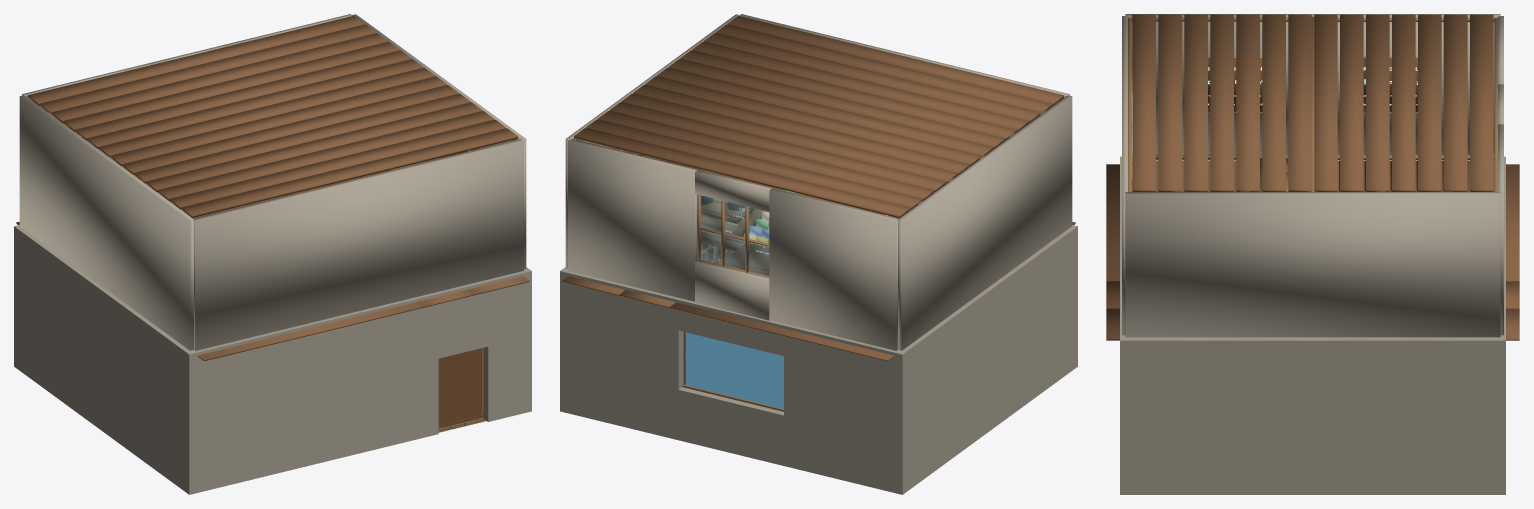
Rendered from PASCAL_QUARTO_PARIS_1650.glb.
3 renders of one model, left to right at view 1: azimuth 30°, elevation 25°; view 2: azimuth 150°, elevation 25°; view 3: azimuth 270°, elevation 25°, orthographic. The views are drawn at different scales.
Parts seen in each view (by area): view 1: Segundo andar - paredes de reboco e vãos, Segundo andar - forro de tábuas de madeira, Parede frontal - trecho esquerdo, Parede lateral esquerda - reboco, Parede frontal - trecho direito, Parede frontal - sobre a porta, Porta de carvalho escuro, Piso superior - subpiso contínuo sob as tábuas, Parede lateral direita - reboco; view 2: Segundo andar - paredes de reboco e vãos, Segundo andar - forro de tábuas de madeira, Parede lateral esquerda - reboco, Parede do fundo - trecho direito, Parede do fundo - trecho esquerdo, Parede do fundo - abaixo da janela, Fundo frio exterior da janela, Segundo andar - vidros azulados da janela, Parede do fundo - acima da janela, Piso superior - subpiso contínuo sob as tábuas, Parede lateral direita - reboco, Segundo andar - caixilho da janela (+2 smaller); view 3: Segundo andar - paredes de reboco e vãos, Parede lateral direita - reboco, Segundo andar - forro de tábuas de madeira, Piso superior - subpiso contínuo sob as tábuas, Segundo andar - rodapés e frisos contínuos, Segundo andar - vigas do forro, Piso superior - tábuas segmentadas para escada lateral, Painel matemático - base - Binomio de Newton, Painel matemático - base - Principio de Pascal.
Boxes of the visible parts, left/top/right/bottom form: Segundo andar - paredes de reboco e vãos: left=19, top=14, right=526, bottom=350; Segundo andar - forro de tábuas de madeira: left=28, top=16, right=517, bottom=217; Parede frontal - trecho esquerdo: left=196, top=292, right=438, bottom=492; Parede lateral esquerda - reboco: left=14, top=225, right=197, bottom=494; Parede frontal - trecho direito: left=483, top=271, right=523, bottom=421; Parede frontal - sobre a porta: left=436, top=280, right=488, bottom=358; Porta de carvalho escuro: left=438, top=348, right=480, bottom=424; Piso superior - subpiso contínuo sob as tábuas: left=16, top=222, right=529, bottom=361; Parede lateral direita - reboco: left=521, top=267, right=531, bottom=413; Segundo andar - paredes de reboco e vãos: left=565, top=14, right=1072, bottom=350; Segundo andar - forro de tábuas de madeira: left=574, top=16, right=1063, bottom=217; Parede lateral esquerda - reboco: left=894, top=225, right=1077, bottom=494; Parede do fundo - trecho direito: left=568, top=271, right=683, bottom=440; Parede do fundo - trecho esquerdo: left=784, top=324, right=895, bottom=492; Parede do fundo - abaixo da janela: left=678, top=387, right=783, bottom=465; Fundo frio exterior da janela: left=685, top=332, right=783, bottom=408; Segundo andar - vidros azulados da janela: left=700, top=195, right=769, bottom=276; Parede do fundo - acima da janela: left=678, top=298, right=785, bottom=355; Piso superior - subpiso contínuo sob as tábuas: left=562, top=222, right=1075, bottom=361; Parede lateral direita - reboco: left=560, top=250, right=733, bottom=413; Segundo andar - caixilho da janela: left=697, top=194, right=769, bottom=278; Segundo andar - paredes de reboco e vãos: left=1122, top=14, right=1503, bottom=337; Parede lateral direita - reboco: left=1120, top=336, right=1505, bottom=494; Segundo andar - forro de tábuas de madeira: left=1132, top=14, right=1493, bottom=191; Piso superior - subpiso contínuo sob as tábuas: left=1106, top=164, right=1519, bottom=340; Segundo andar - rodapés e frisos contínuos: left=1128, top=17, right=1497, bottom=191; Segundo andar - vigas do forro: left=1173, top=16, right=1452, bottom=191; Piso superior - tábuas segmentadas para escada lateral: left=1339, top=161, right=1469, bottom=191; Painel matemático - base - Binomio de Newton: left=1208, top=58, right=1262, bottom=112; Painel matemático - base - Principio de Pascal: left=1363, top=58, right=1417, bottom=112.
Size of the model in its own units: 11.49 by 8.88 by 10.92.
